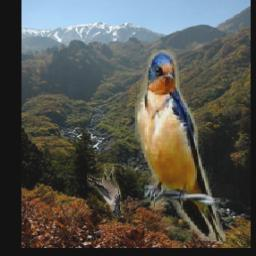Crow: (88, 168, 124, 218)
Swallow: (136, 50, 226, 244)
